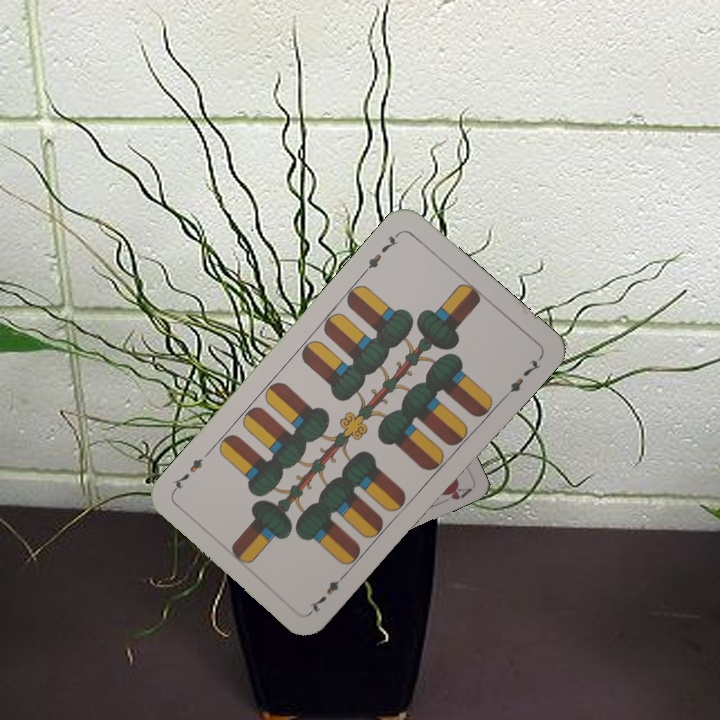E7: (305, 567, 351, 615), (359, 228, 403, 277)
